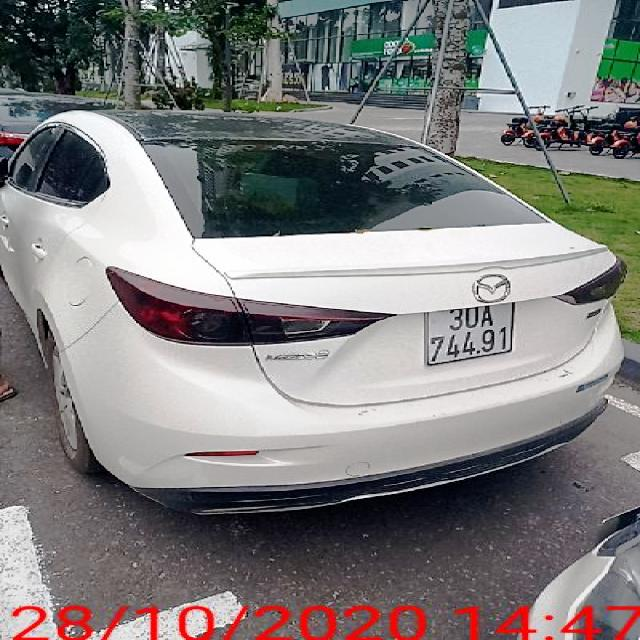license_plate: (424, 303, 522, 369)
